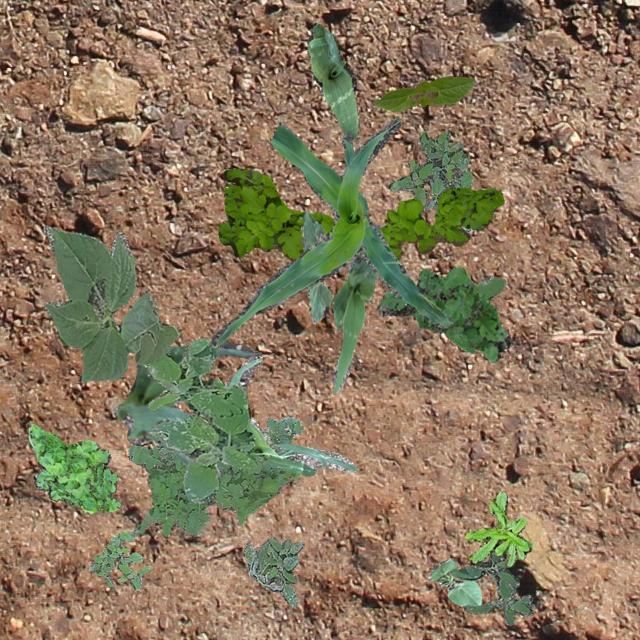crop: (209, 116, 452, 346), (42, 224, 178, 380), (112, 338, 260, 466), (225, 354, 358, 474), (332, 250, 376, 392), (306, 22, 358, 138), (372, 76, 474, 110), (300, 210, 330, 324), (428, 558, 480, 604)
weed: (218, 168, 502, 260), (128, 416, 302, 536), (142, 338, 256, 502), (376, 266, 510, 362), (387, 130, 472, 232), (28, 423, 118, 512), (450, 550, 532, 624), (464, 491, 532, 566), (242, 536, 304, 606), (88, 530, 152, 590), (474, 274, 504, 298)
